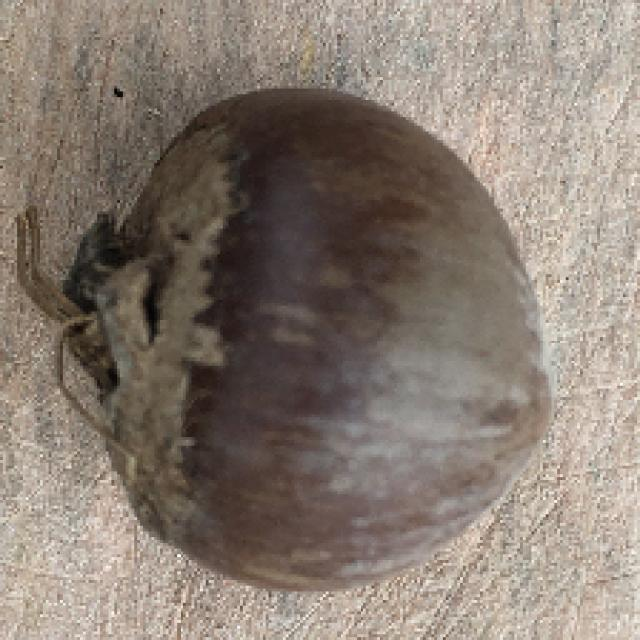damagedHazelnut: (92, 80, 563, 592)
